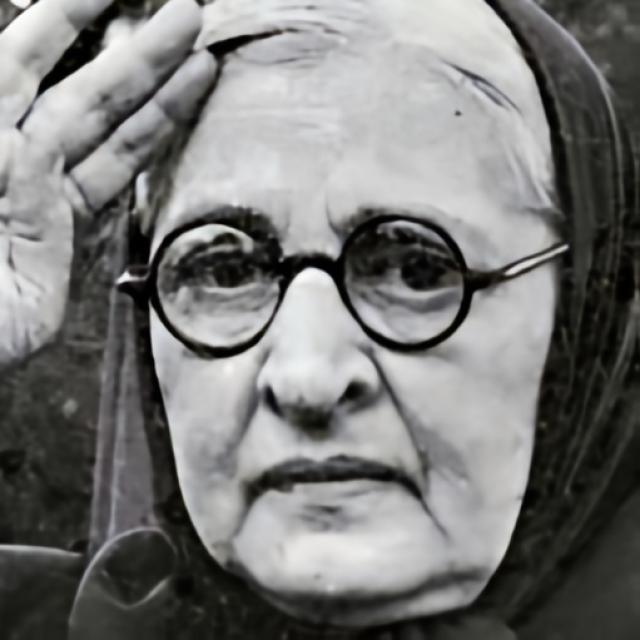sad: (142, 44, 566, 602)
